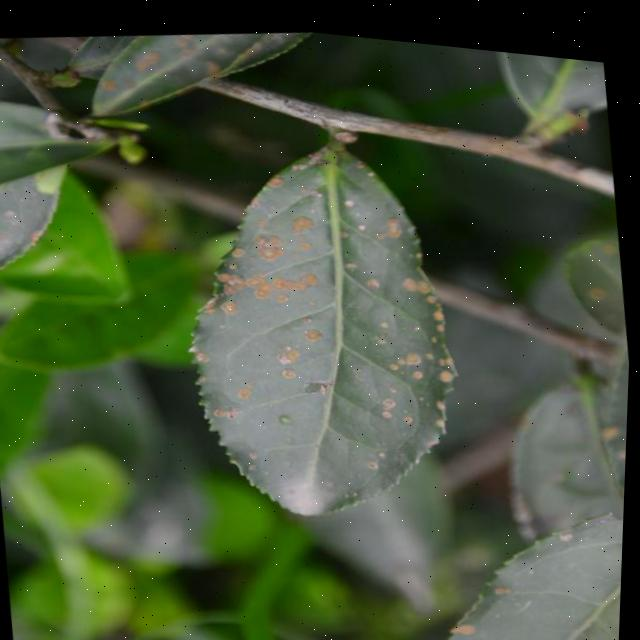Tea algae leaf spot: (172, 95, 485, 516)
